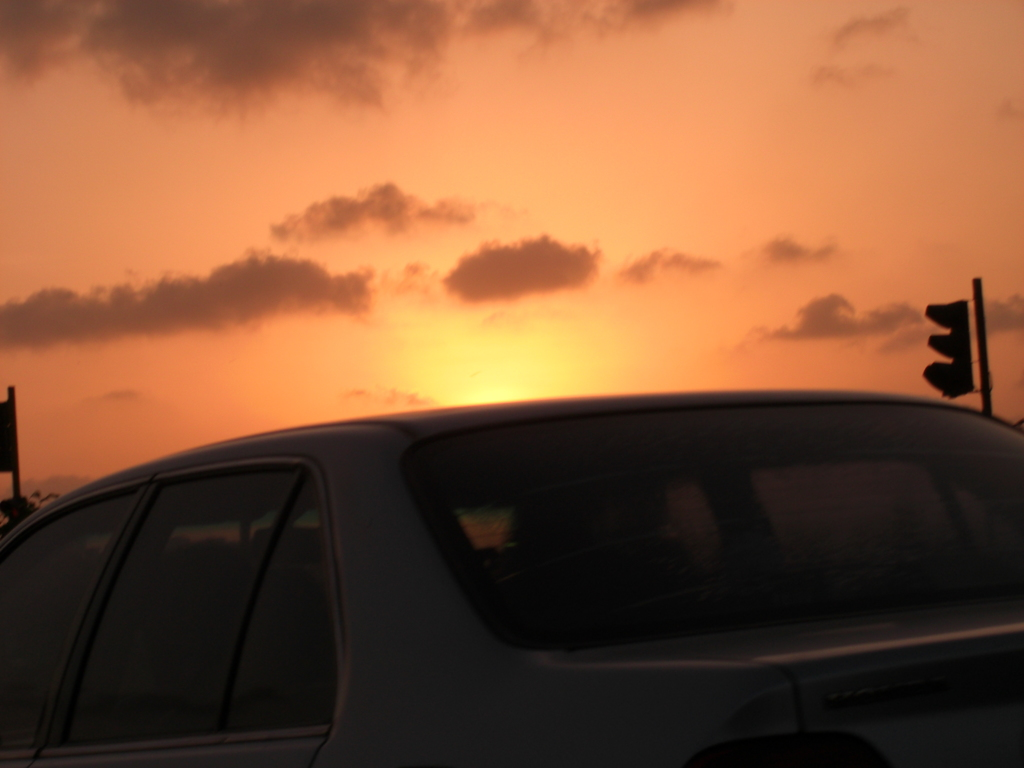Car: (0, 306, 978, 768)
